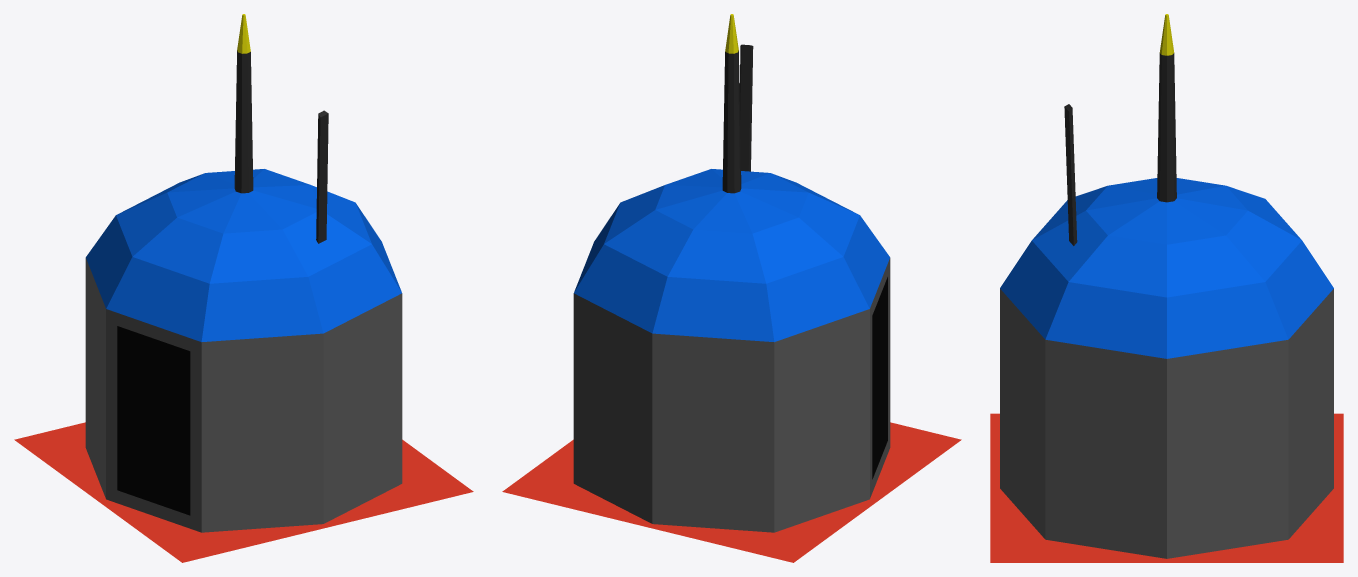
3 views of the same model, side by side, from view 1: azimuth 30°, elevation 25°; view 2: azimuth 150°, elevation 25°; view 3: azimuth 270°, elevation 25° (orthographic). The views are drawn at different scales.
Parts seen in each view (by area): view 1: Plane; view 2: Plane; view 3: Plane.
Part boxes in pixels (x1,y1,x2,y2): Plane: (14, 14, 473, 562); Plane: (502, 14, 961, 562); Plane: (990, 14, 1343, 562).
Bounding box in the file's own units: 2 × 2.96 × 2.
